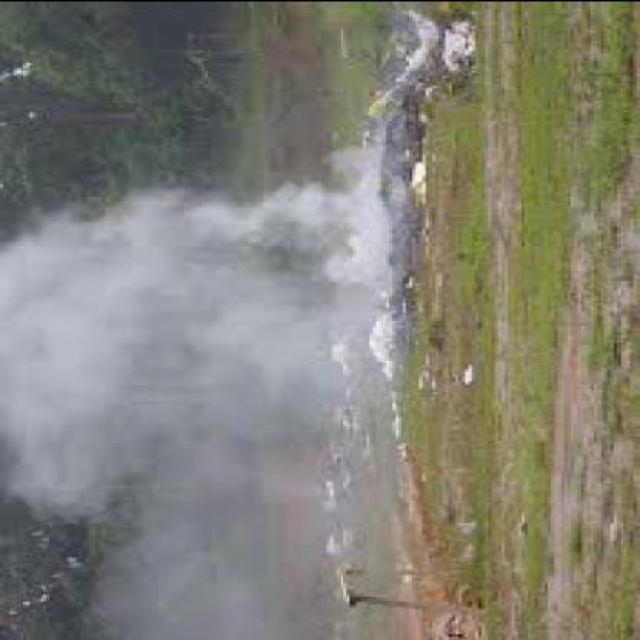Smoke: (0, 146, 396, 640)
